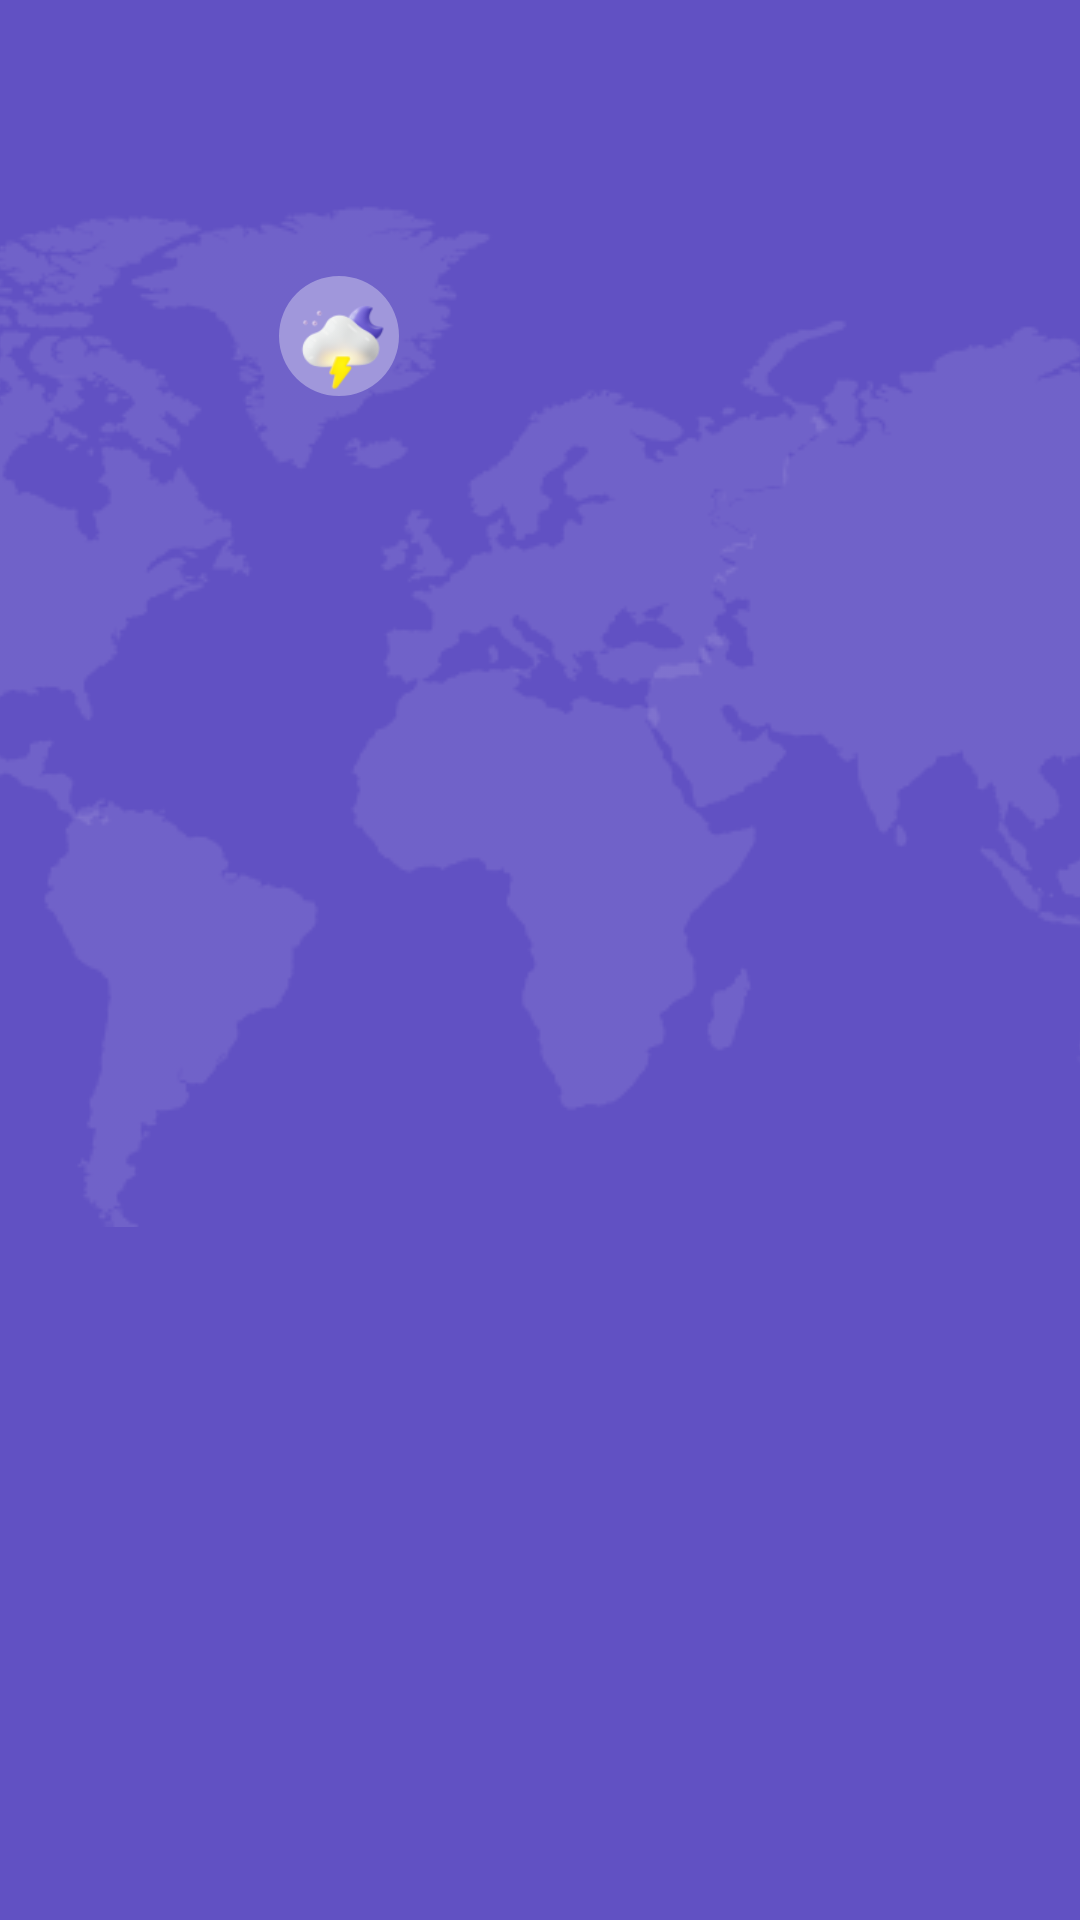

Screen size 1080w x 1920h. Icon name, then its center in pixels as (x,y):
moon cloud: (339,336)
